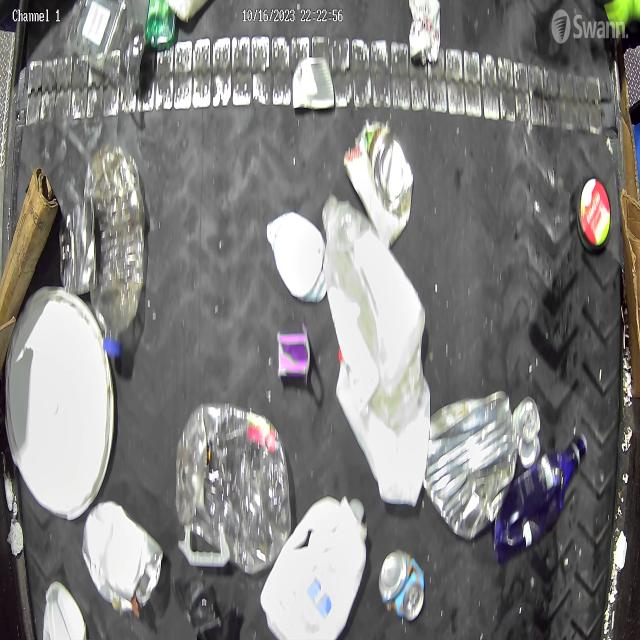can: (424, 393, 522, 536), (343, 122, 414, 249), (58, 194, 97, 294), (379, 546, 427, 623), (292, 55, 335, 111), (511, 397, 543, 471), (408, 1, 441, 66)
milk_jug: (322, 194, 426, 394), (336, 338, 430, 506), (260, 493, 367, 640)
non_white_jug: (492, 432, 588, 558)
plastic_bottle: (84, 144, 145, 357)
